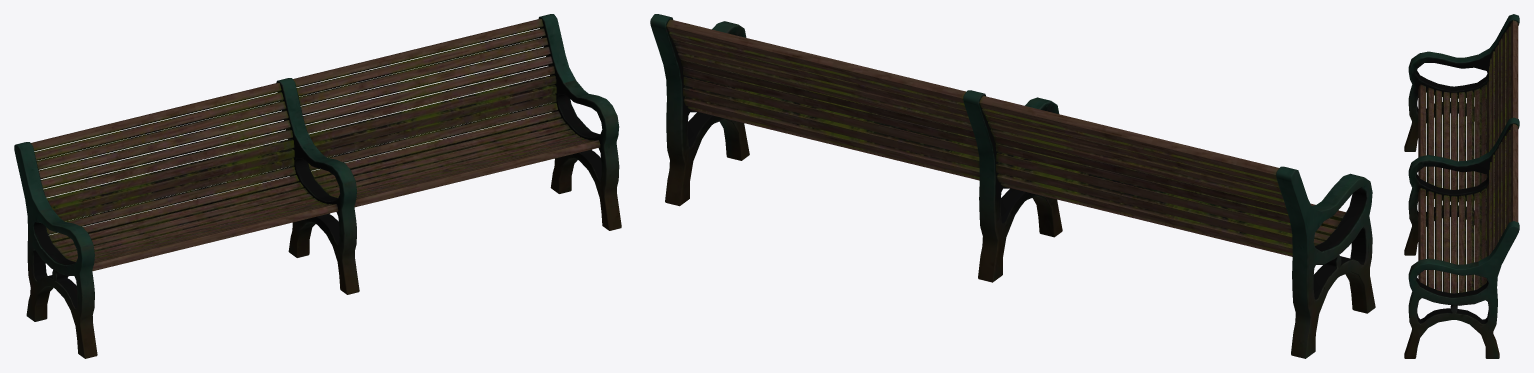
The model's file is park-bench.glb.
3 views of the same model, side by side, from view 1: azimuth 30°, elevation 25°; view 2: azimuth 150°, elevation 25°; view 3: azimuth 270°, elevation 25° (orthographic). The views are drawn at different scales.
Parts seen in each view (by area): view 1: Bench; view 2: Bench; view 3: Bench.
Part boxes in pixels (box(x1,y1,x2,y2)): Bench: box(14, 14, 621, 358); Bench: box(650, 14, 1375, 358); Bench: box(1404, 14, 1519, 358).
Bounding box in the file's own units: 2.9 × 0.85 × 0.6647.
2 materials, 2 textured.
